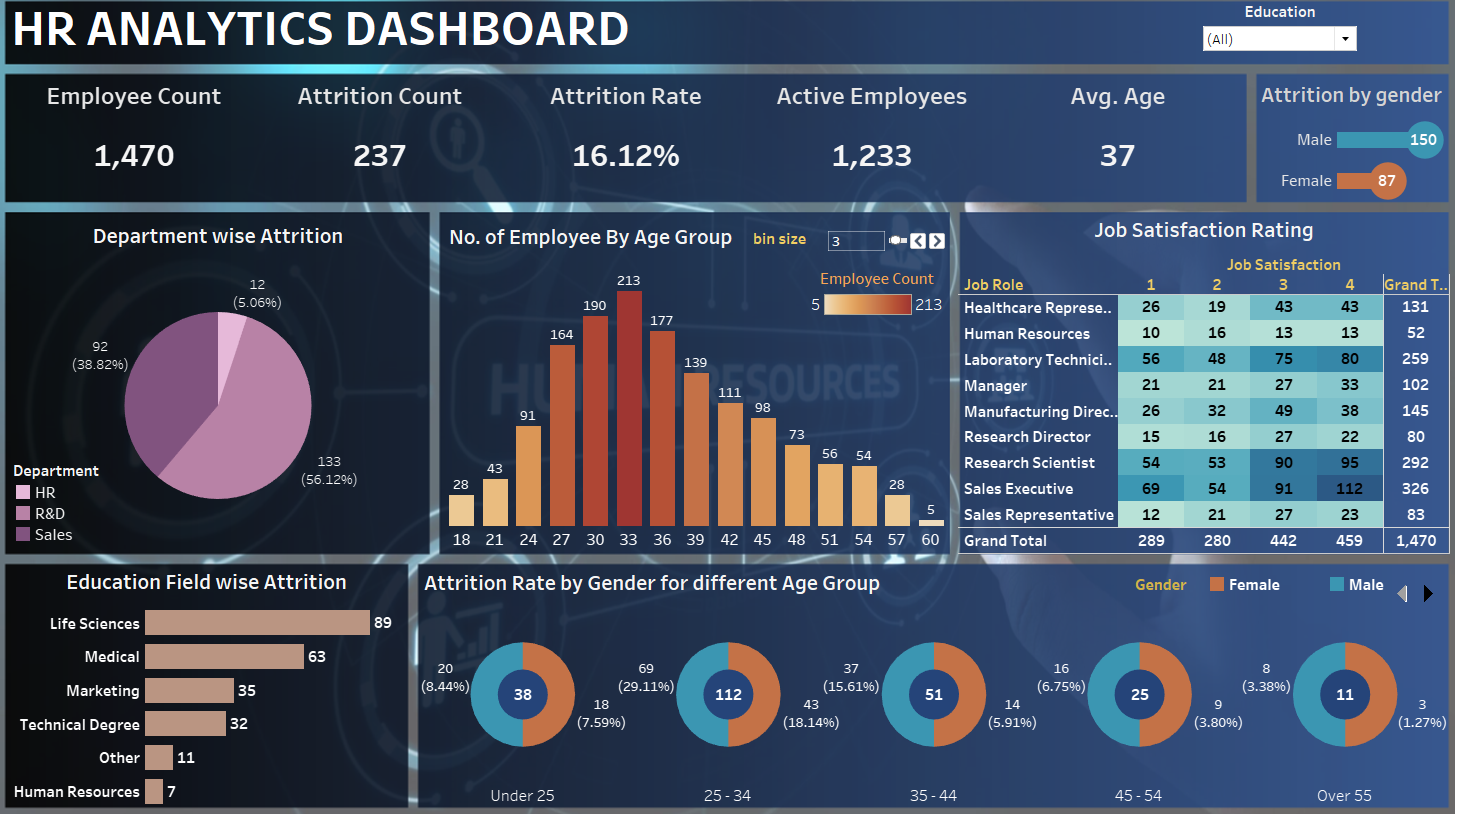

The page's visual inventory and layout, read from the dashboard file:
{"tool":"tableau","page":{"name":"HR Analytics Dashboard","canvas":[1360,750],"ordinal":0},"visuals":[{"type":"image","param":"Image/HR background.pptx.png","box":[8,8,1344,734]},{"type":"text","box":[49,14,702,61]},{"type":"filter","title":"Department wise Attrition","param":"[federated.1hia3nc079s9ru15gm2rt10kos7w].[none:Education:nk]","box":[1046,27,148,53]},{"type":"worksheet","title":"KPI","mark":"Automatic","box":[42,82,1096,117]},{"type":"worksheet","title":"Attrition by gender","mark":"Automatic","rows":["Gender"],"cols":["Calculation_315533509762781184","Calculation_315533509762781184"],"box":[1151,85,156,111]},{"type":"worksheet","title":"Job Satisfaction Rating","mark":"Square","rows":["Job Role"],"cols":["Job Satisfaction"],"box":[888,207,423,302]},{"type":"worksheet","title":"Department wise Attrition","mark":"Pie","box":[42,208,374,294]},{"type":"worksheet","title":"No. of Employee By Age Group","mark":"Automatic","rows":["Employee Count"],"cols":["Age (bin)"],"box":[427,210,447,293]},{"type":"parameter","param":"[Parameters].[Parameter 2]","box":[681,222,187,41]},{"type":"legend","title":"No. of Employee By Age Group","param":"[federated.1hia3nc079s9ru15gm2rt10kos7w].[sum:Employee Count:qk]","box":[701.2,279.6,120.2,67.9]},{"type":"legend","title":"Department wise Attrition","param":"[federated.1hia3nc079s9ru15gm2rt10kos7w].[none:Department:nk]","box":[48,395,94,91]},{"type":"worksheet","title":"Education Field wise Attrition","mark":"Automatic","rows":["Education Field"],"cols":["Calculation_315533509762781184"],"box":[43,515,355,217]},{"type":"worksheet","title":"Attrition Rate by Gender for different Age Group","mark":"Pie","rows":["Calculation_315533509819744260","Calculation_315533509819744260"],"cols":["CF_age band"],"box":[408,518,898,214]},{"type":"legend","title":"Attrition Rate by Gender for different Age Group","param":"[federated.1hia3nc079s9ru15gm2rt10kos7w].[none:Gender:nk]","box":[995,525,349,34]}]}

Visuals, with their boxes in screenshot pixels (x1, y1, x2, y2), scaled from the page's 1360x750 canvas onto the 1458x818 screenshot:
image: crop(9, 9, 1449, 809)
text: crop(53, 15, 805, 82)
"Department wise Attrition" filter: crop(1121, 29, 1280, 87)
"KPI" worksheet: crop(45, 89, 1220, 217)
"Attrition by gender" worksheet: crop(1234, 93, 1401, 214)
"Job Satisfaction Rating" worksheet (Square marks): crop(952, 226, 1405, 555)
"Department wise Attrition" worksheet (Pie marks): crop(45, 227, 446, 548)
"No. of Employee By Age Group" worksheet: crop(458, 229, 937, 549)
parameter: crop(730, 242, 931, 287)
"No. of Employee By Age Group" legend: crop(752, 305, 881, 379)
"Department wise Attrition" legend: crop(51, 431, 152, 530)
"Education Field wise Attrition" worksheet: crop(46, 562, 427, 798)
"Attrition Rate by Gender for different Age Group" worksheet (Pie marks): crop(437, 565, 1400, 798)
"Attrition Rate by Gender for different Age Group" legend: crop(1067, 573, 1441, 610)
